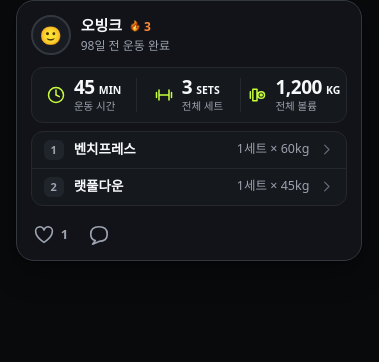
it: FeedItemCard — 기록 상세 펼치기 › 목록을 다시 누르면 접힌다
Click the button with aria-label "운동 상세". click: (189, 168)
box: [31,130,347,206]
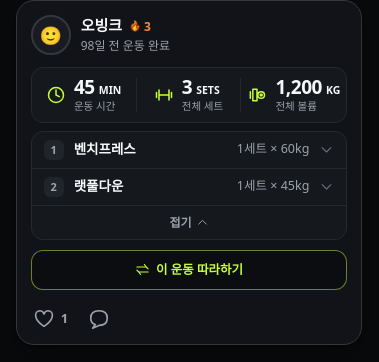
Expected: the button with aria-label "운동 상세" is expanded
Click the button with aria-label "운동 상세". click: (189, 185)
box: [31,130,347,240]
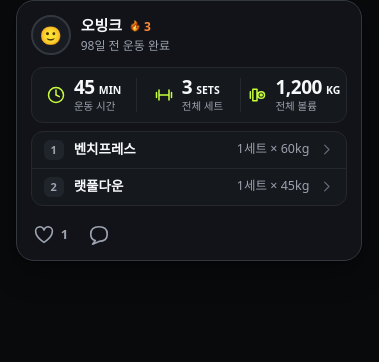
Expected: the button with aria-label "운동 상세" is collapsed, [31,130,347,206]
